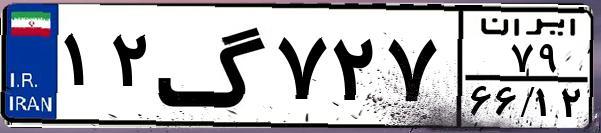1: (57, 26, 110, 100), (535, 70, 560, 125)
2: (330, 28, 385, 110), (110, 28, 156, 98), (560, 70, 590, 125)
6: (470, 70, 495, 125), (495, 70, 520, 125)
7: (270, 28, 330, 110), (385, 28, 445, 110), (508, 27, 537, 80)
9: (537, 27, 568, 80)
گ: (156, 12, 270, 120)
